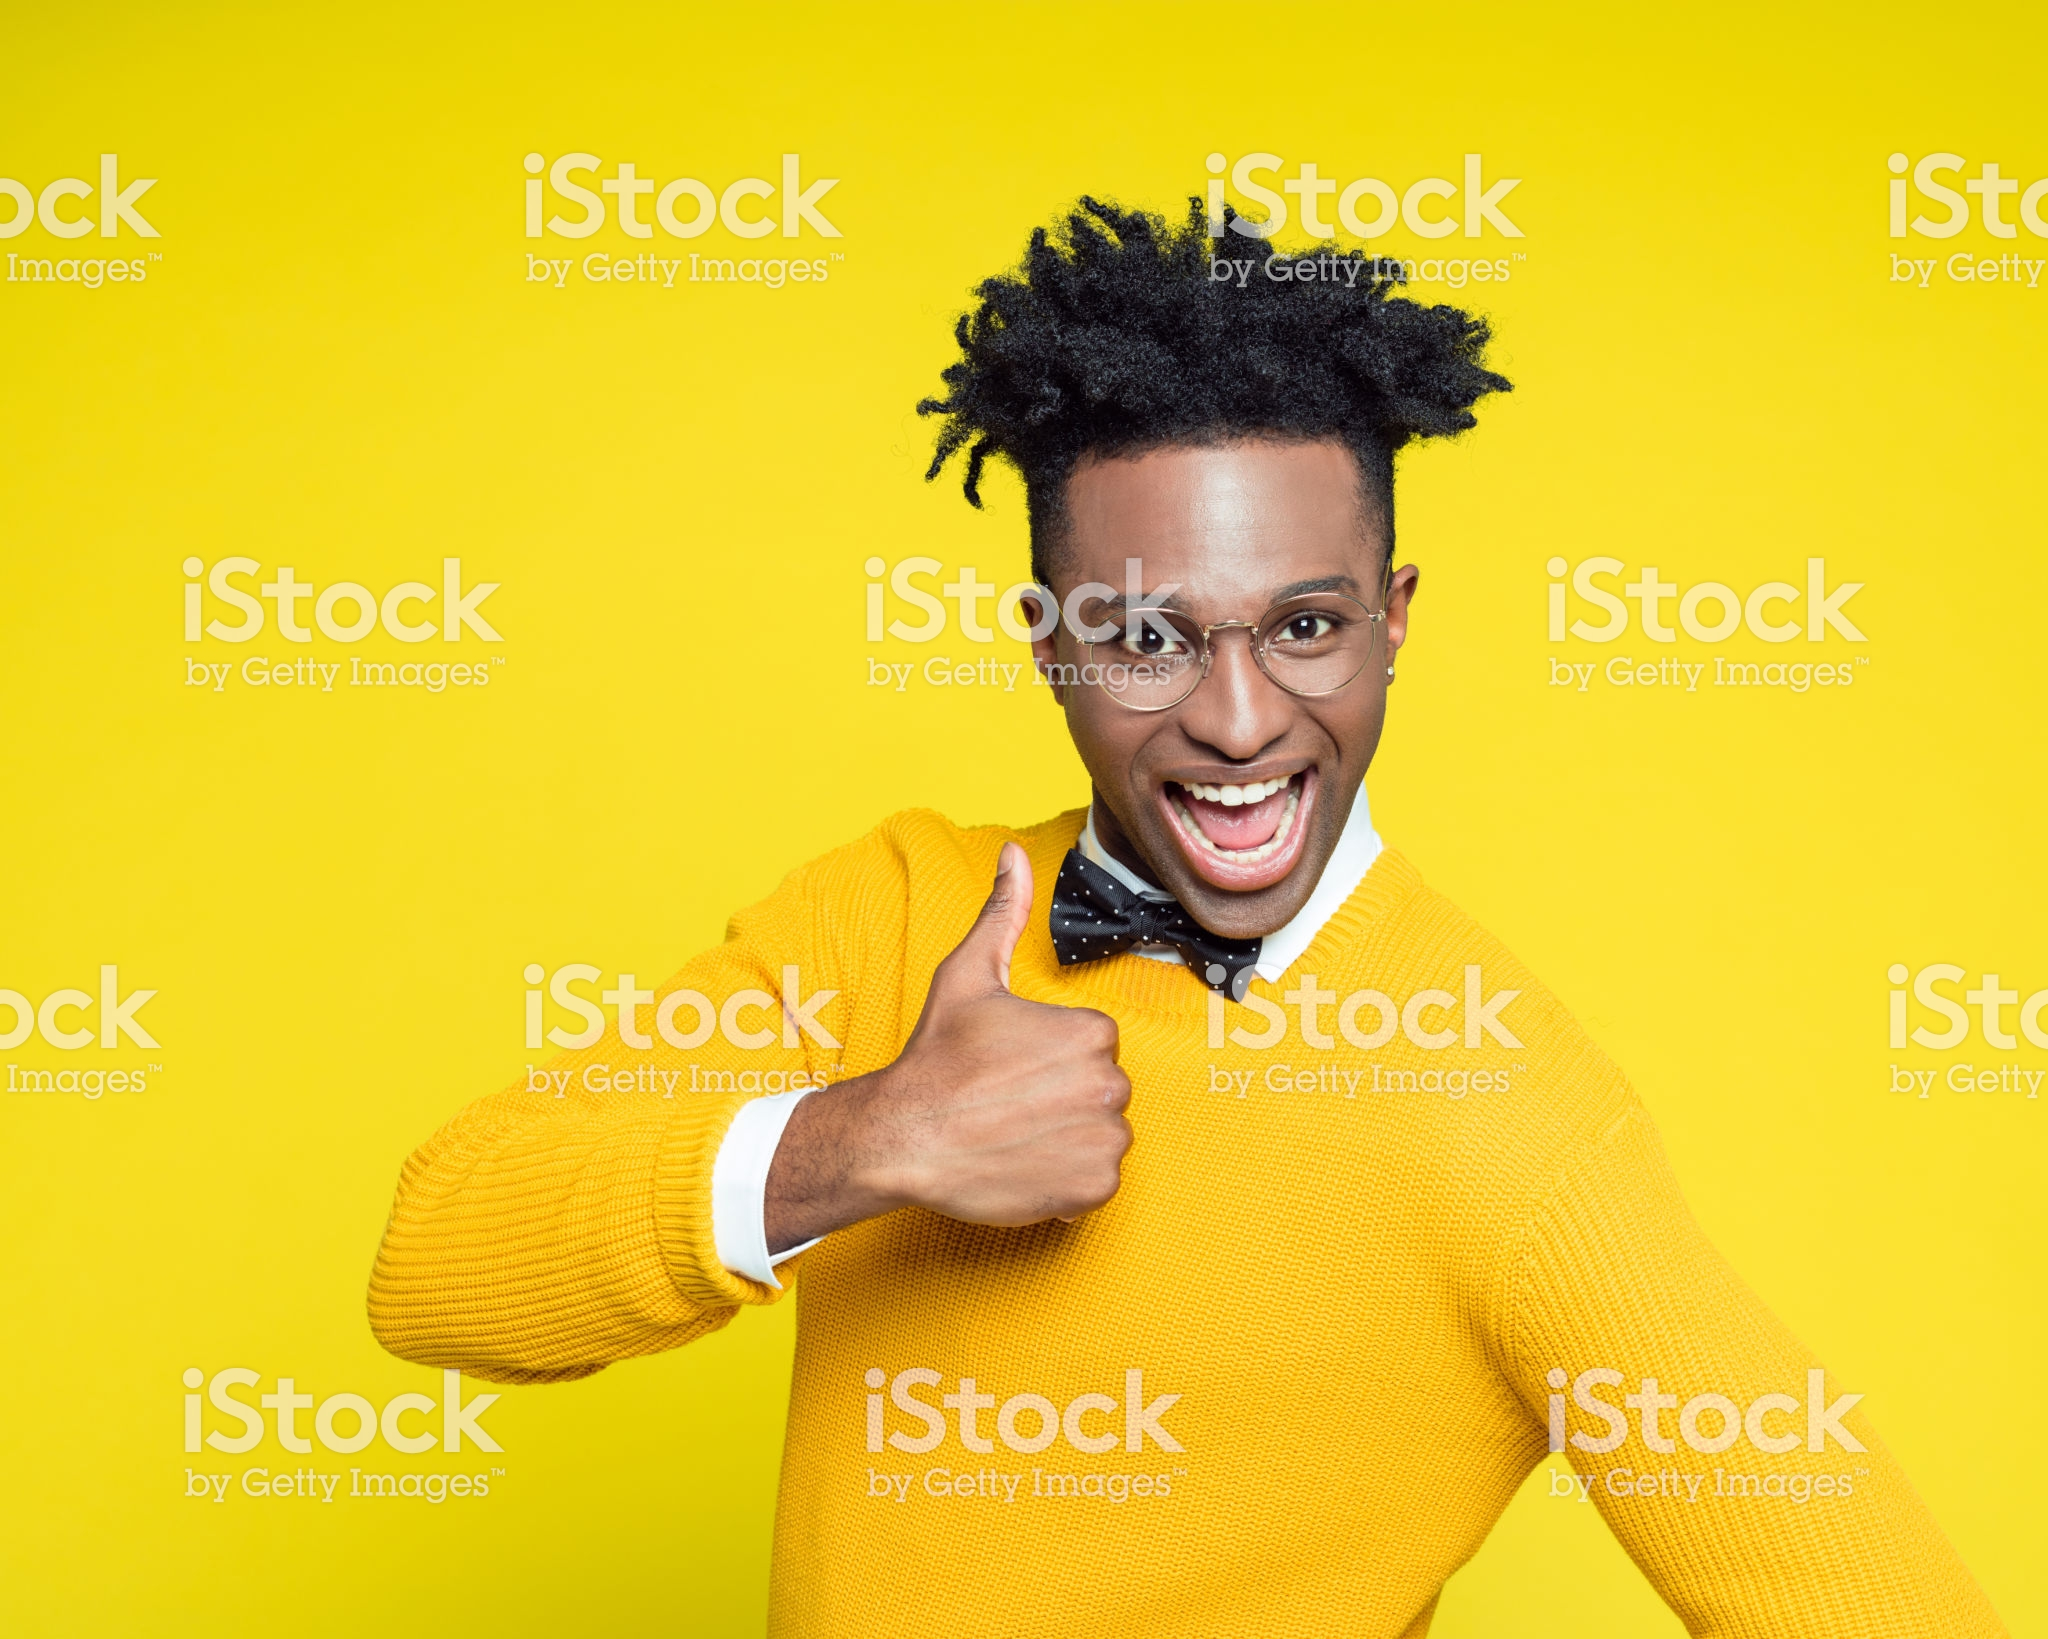thumbsup: (883, 836, 1137, 1243)
